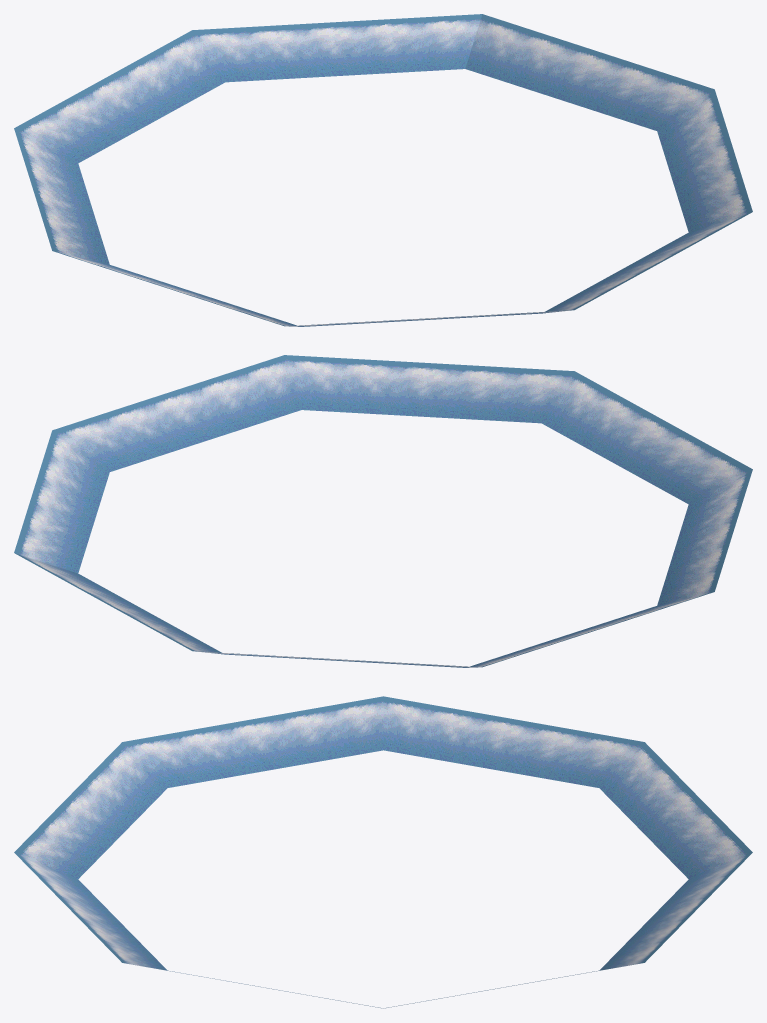
File: Transparent.obj
3 renders of one model, top to bottom at view 1: azimuth 30°, elevation 25°; view 2: azimuth 150°, elevation 25°; view 3: azimuth 270°, elevation 25°, orthographic. The views are drawn at different scales.
Bounding box in the file's own units: 7320 × 294 × 7320.
Materials: 1 (1 with a texture image).
